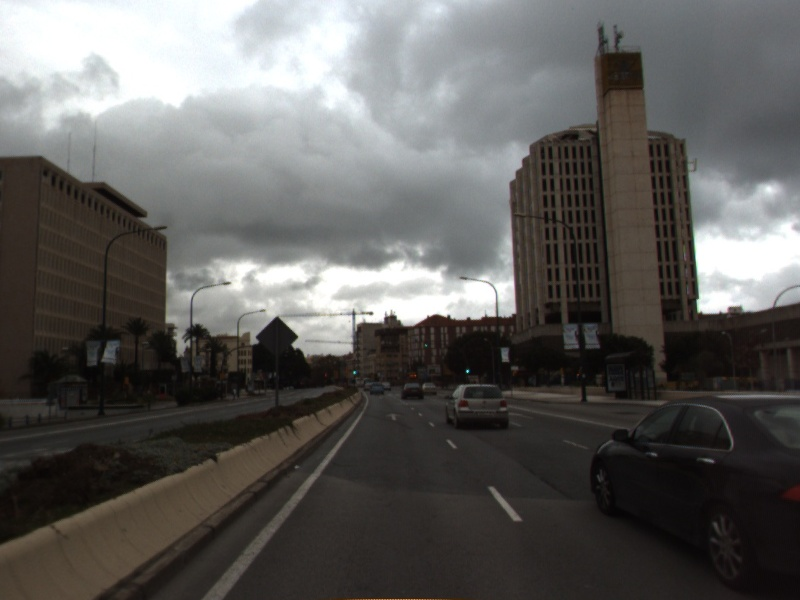STRAIGHT: (506, 410, 536, 421), (383, 411, 404, 422)
